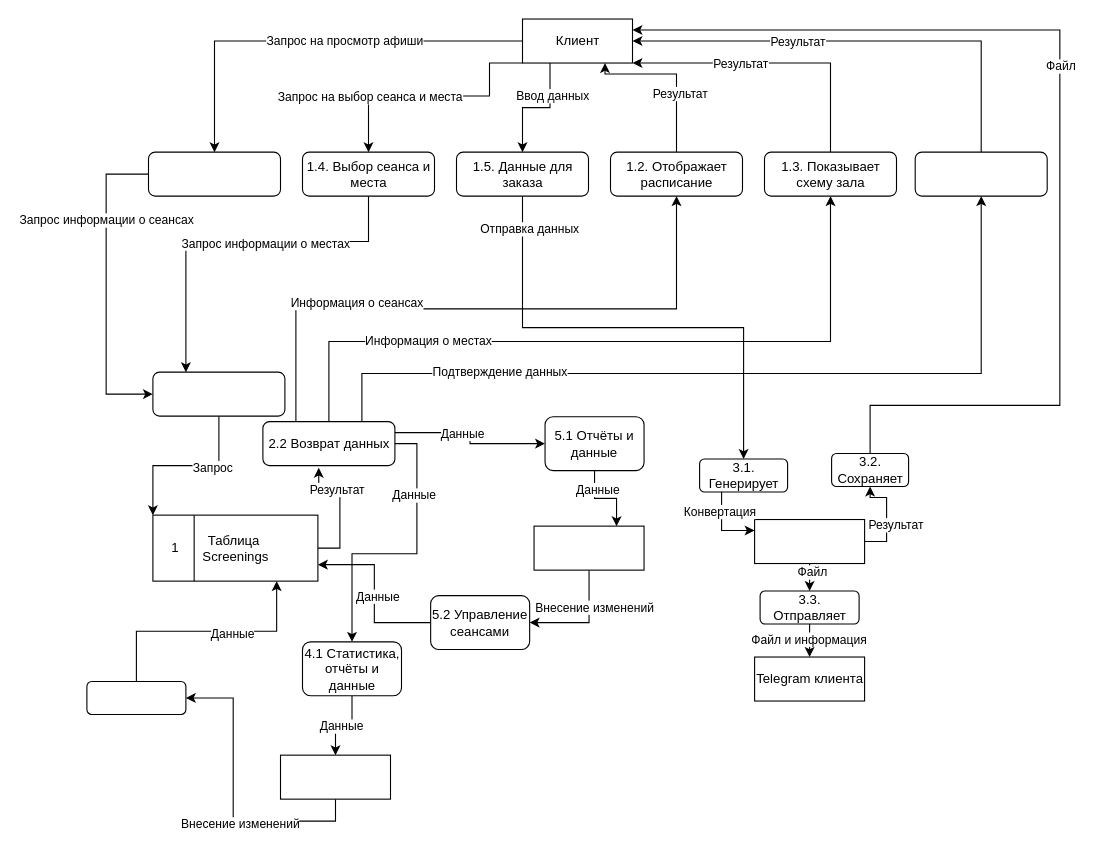
The diagram is 1095 pixels wide and 850 high, and some of its shapes have lost their labels. The centre of each missing label's shape, as x and y in pixels:
1.1. Просмотр афиши: [213,173]
1.6. Подтверждение заказа: [980,173]
2.1 Запрос данных: [218,393]
4.2 Управление контентом: [136,697]
PDF билет: [809,541]
Администратор: [335,776]
Менеджер: [588,547]
